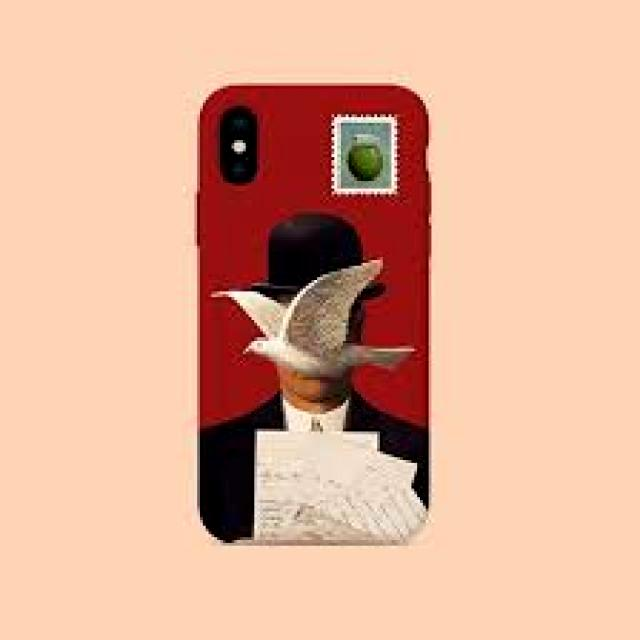lens_back: (220, 150, 258, 186), (222, 109, 258, 142), (291, 156, 292, 157)
phone: (190, 76, 438, 553)
